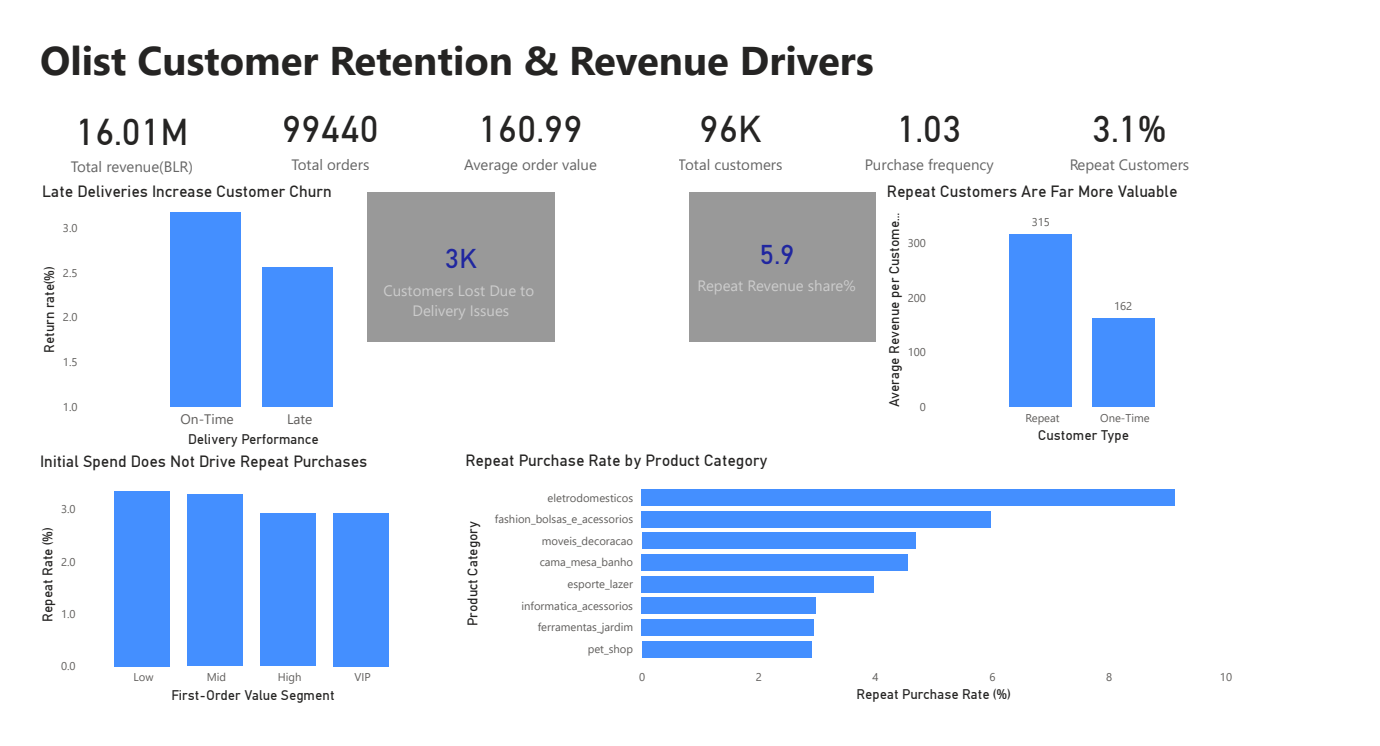

This screenshot's page, from the dashboard's own definition file:
{"tool":"powerbi","page":{"name":"Page 1","canvas":[1280,720],"ordinal":0},"visuals":[{"type":"card","fields":{"Values":["Sum(overall_kpis (2).total_revenue)"]},"box":[6.7,49.5,192,128],"z":0},{"type":"card","fields":{"Values":["Sum(overall_kpis (2).purchase_frequency)"]},"box":[856.7,49.5,192.1,122.1],"z":1000},{"type":"card","fields":{"Values":["Sum(overall_kpis (2).total_orders)"]},"box":[219.1,49.5,192.1,122.1],"z":2000},{"type":"card","fields":{"Values":["Sum(overall_kpis (2).avg_order_value)"]},"box":[431.6,49.5,192.1,122.1],"z":3000},{"type":"card","fields":{"Values":["Sum(overall_kpis (2).total_customers)"]},"box":[644.2,49.5,192.1,122.1],"z":4000},{"type":"card","fields":{"Values":["category_retention.Repeat Customers %"]},"box":[1069.2,49.5,192.1,122.1],"z":4001},{"type":"clusteredColumnChart","title":"Late Deliveries Increase Customer Churn","fields":{"Category":["delivery_retention.delivery_status"],"Y":["Avg(delivery_retention.return_rate_percent)"]},"box":[0,160,420,288],"z":4002},{"type":"card","fields":{"Values":["Sum(delivery_retention.returned_customers)"]},"box":[352.7,171.5,200.3,159.2],"z":4003},{"type":"clusteredColumnChart","title":"Repeat Customers Are Far More Valuable","fields":{"Category":["revenue_split.customer_type"],"Y":["Avg(revenue_split.avg_revenue_per_customer)"]},"box":[896,160,384,288],"z":4004},{"type":"card","fields":{"Values":["Avg(revenue_split.revenue_share_percent)"]},"box":[697.1,171.5,199,159.2],"z":4005},{"type":"clusteredColumnChart","title":"Initial Spend Does Not Drive Repeat Purchases","fields":{"Y":["Avg(value_quartile_retention.return_rate_percent)"],"Category":["value_quartile_retention.Value Segment"]},"box":[0,448,416,272],"z":4006},{"type":"clusteredBarChart","title":"Repeat Purchase Rate by Product Category","fields":{"Y":["Avg(category_retention.return_rate_percent)"],"Category":["category_retention.product_category_name"]},"box":[452.8,446,827.4,273.1],"z":4007},{"type":"textbox","title":"Olist Customer Retention & Revenue Drivers","box":[0,0,988.9,66.4],"z":4008}]}

Visuals, with their boxes on the page's 1280x720 design canvas (x1, y1, x2, y2). These are canvas units, not pixel positions in the 1380x746 screenshot, which may show the page scaled, cropped or inside an application window:
card - Sum(overall_kpis (2).total_revenue): rect(7, 50, 199, 178)
card - Sum(overall_kpis (2).purchase_frequency): rect(857, 50, 1049, 172)
card - Sum(overall_kpis (2).total_orders): rect(219, 50, 411, 172)
card - Sum(overall_kpis (2).avg_order_value): rect(432, 50, 624, 172)
card - Sum(overall_kpis (2).total_customers): rect(644, 50, 836, 172)
card - category_retention.Repeat Customers %: rect(1069, 50, 1261, 172)
"Late Deliveries Increase Customer Churn" clusteredColumnChart: rect(0, 160, 420, 448)
card - Sum(delivery_retention.returned_customers): rect(353, 172, 553, 331)
"Repeat Customers Are Far More Valuable" clusteredColumnChart: rect(896, 160, 1280, 448)
card - Avg(revenue_split.revenue_share_percent): rect(697, 172, 896, 331)
"Initial Spend Does Not Drive Repeat Purchases" clusteredColumnChart: rect(0, 448, 416, 720)
"Repeat Purchase Rate by Product Category" clusteredBarChart: rect(453, 446, 1280, 719)
"Olist Customer Retention & Revenue Drivers" textbox: rect(0, 0, 989, 66)
